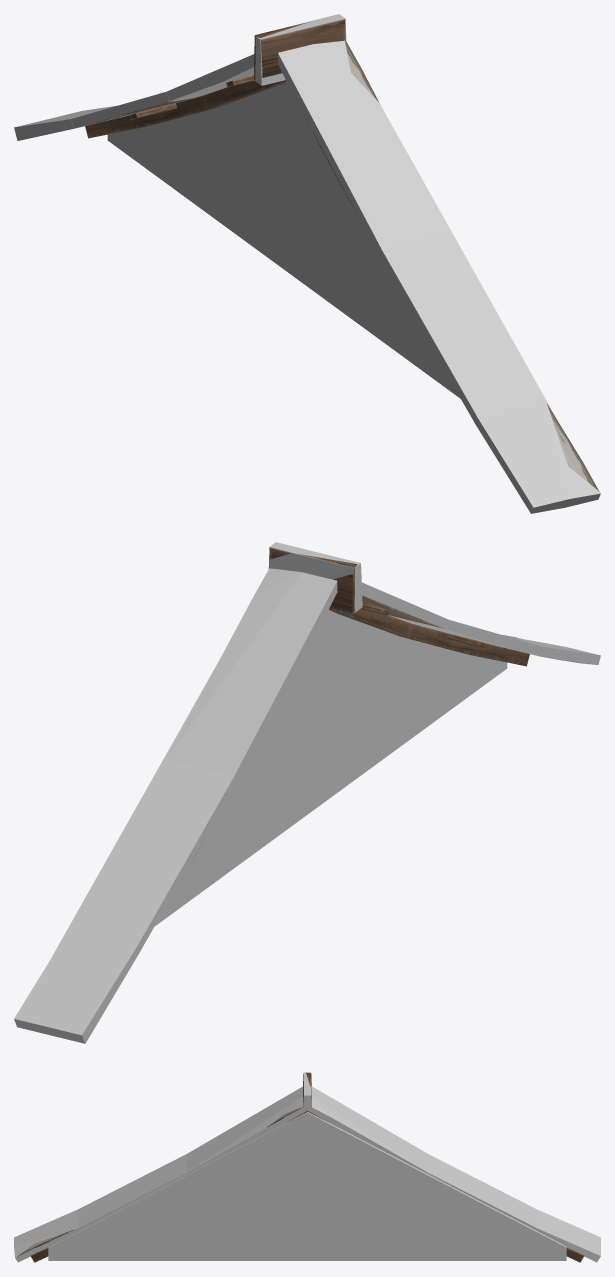
Rendered from SM_Hangar01RE_3.fbx.
The picture shows the model from 3 angles, top to bottom: view 1: azimuth 30°, elevation 25°; view 2: azimuth 150°, elevation 25°; view 3: azimuth 270°, elevation 25°; orthographic projection. The views are drawn at different scales.
Parts seen in each view (by area): view 1: SM_Hangar01RE_3_ConvexHulls, SM_Hangar01RE_3; view 2: SM_Hangar01RE_3_ConvexHulls, SM_Hangar01RE_3; view 3: SM_Hangar01RE_3_ConvexHulls, SM_Hangar01RE_3.
Boxes of the visible parts, box(x1,y1,x2,y2) form: SM_Hangar01RE_3_ConvexHulls: box(14, 14, 600, 513); SM_Hangar01RE_3: box(81, 19, 598, 490); SM_Hangar01RE_3_ConvexHulls: box(14, 542, 600, 1043); SM_Hangar01RE_3: box(184, 548, 592, 874); SM_Hangar01RE_3_ConvexHulls: box(14, 1072, 600, 1262); SM_Hangar01RE_3: box(17, 1072, 584, 1262).
Bounding box in the file's own units: 101 × 1021 × 321.
6 materials, 5 textured.
